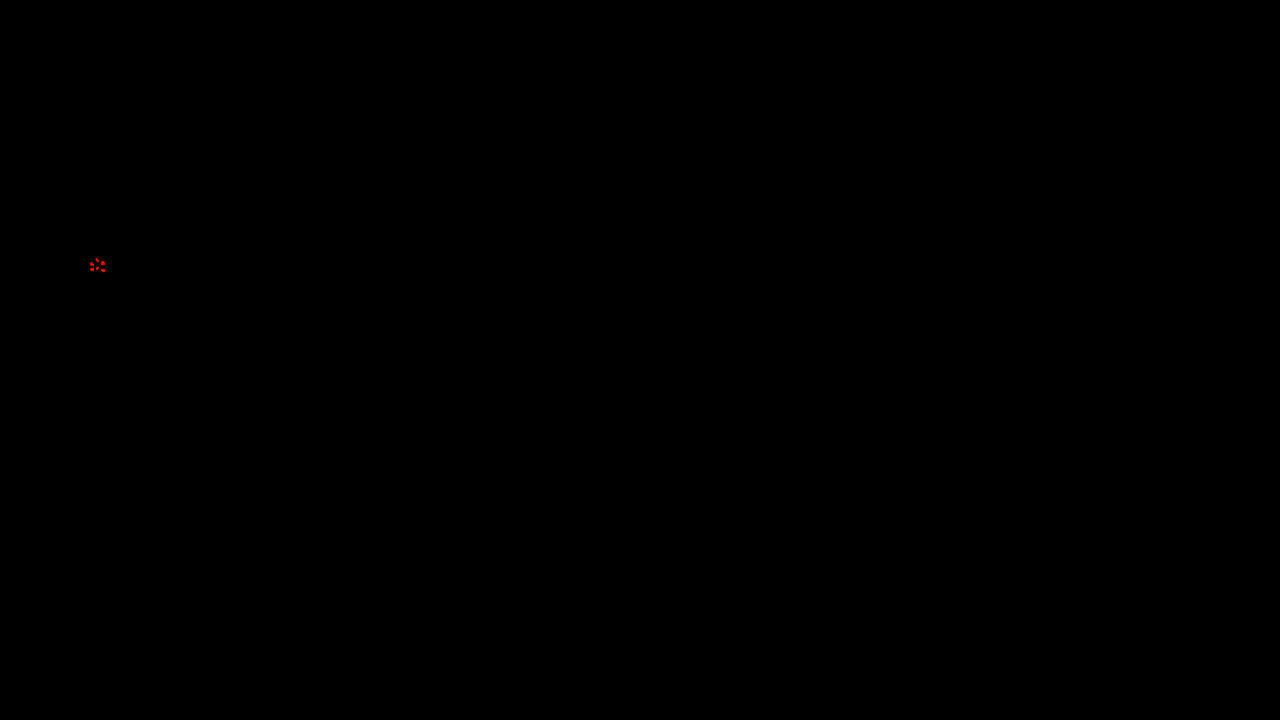Target: (95, 258, 99, 262), (101, 261, 105, 265), (90, 262, 94, 266), (101, 269, 106, 272), (90, 268, 94, 271), (96, 267, 99, 270)
